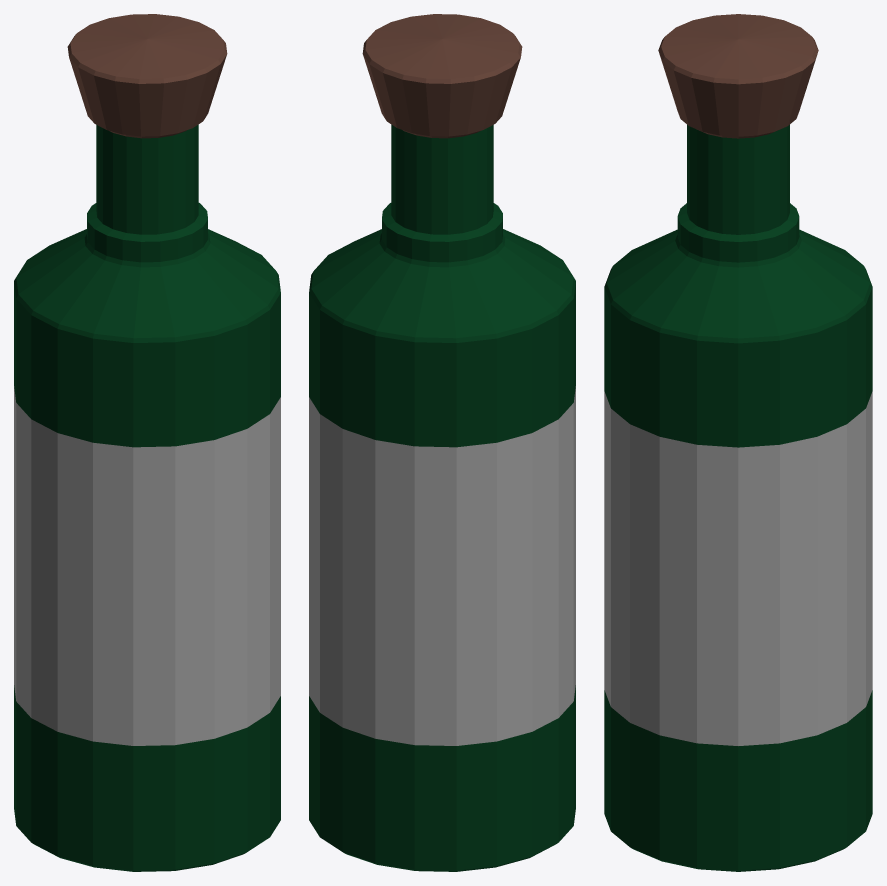
The model's file is bottle.fbx.
3 views of the same model, side by side, from view 1: azimuth 30°, elevation 25°; view 2: azimuth 150°, elevation 25°; view 3: azimuth 270°, elevation 25° (orthographic).
Visible parts, largest first — view 1: pCylinder8; view 2: pCylinder8; view 3: pCylinder8.
Part boxes in pixels (bbox=[...]): pCylinder8: bbox=[14, 14, 280, 871]; pCylinder8: bbox=[309, 14, 575, 871]; pCylinder8: bbox=[604, 14, 872, 871].
Size of the model in its own units: 0.962 by 3.08 by 0.962.
